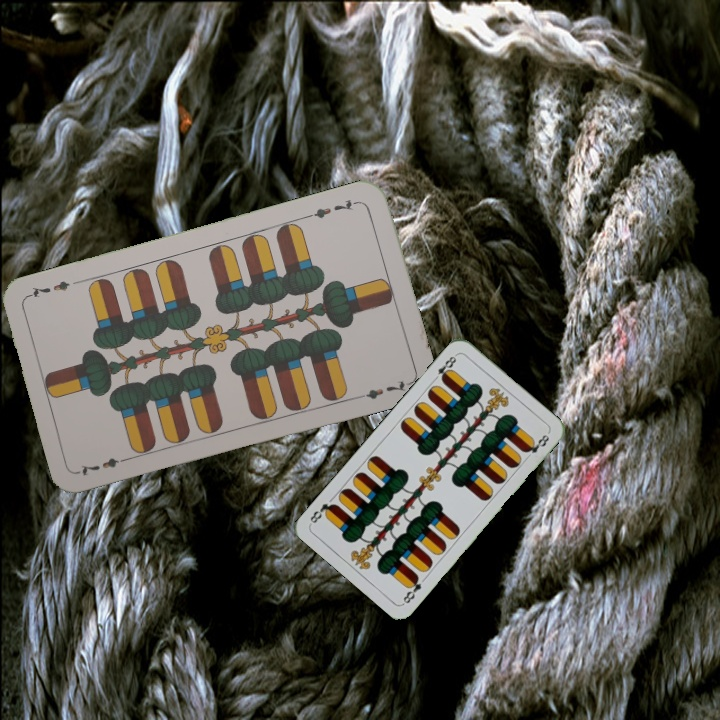E7: (304, 195, 362, 222), (75, 453, 133, 478)
E8: (429, 350, 460, 384), (399, 571, 424, 606)
